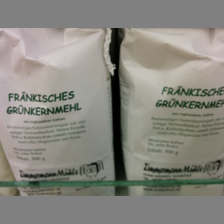flour: (1, 29, 117, 194), (119, 29, 224, 194)
